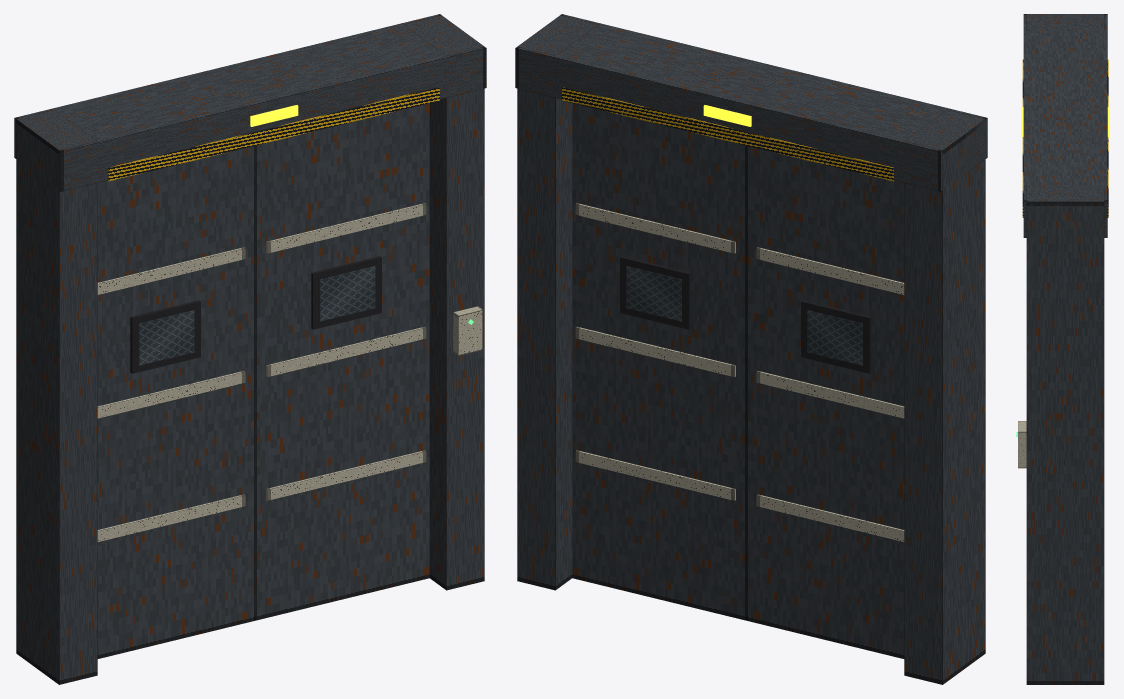
The model's file is door_habitation_worn.glb.
The picture shows the model from 3 angles, left to right: view 1: azimuth 30°, elevation 25°; view 2: azimuth 150°, elevation 25°; view 3: azimuth 270°, elevation 25°; orthographic projection. The views are drawn at different scales.
Visible parts, largest first — view 1: door_habitation_worn; view 2: door_habitation_worn; view 3: door_habitation_worn.
Part boxes in pixels (bbox=[...]): door_habitation_worn: bbox=[14, 14, 486, 684]; door_habitation_worn: bbox=[515, 14, 987, 684]; door_habitation_worn: bbox=[1016, 14, 1109, 684].
Bounding box in the file's own units: 2 × 2.4 × 0.4215.
9 materials, 9 textured.
